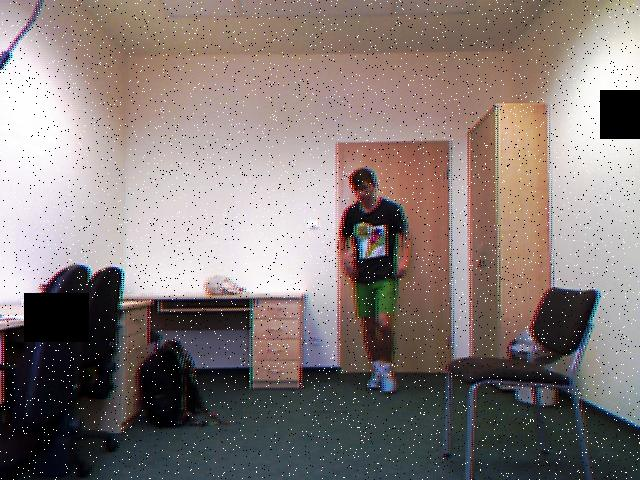walking: (330, 159, 422, 403)
